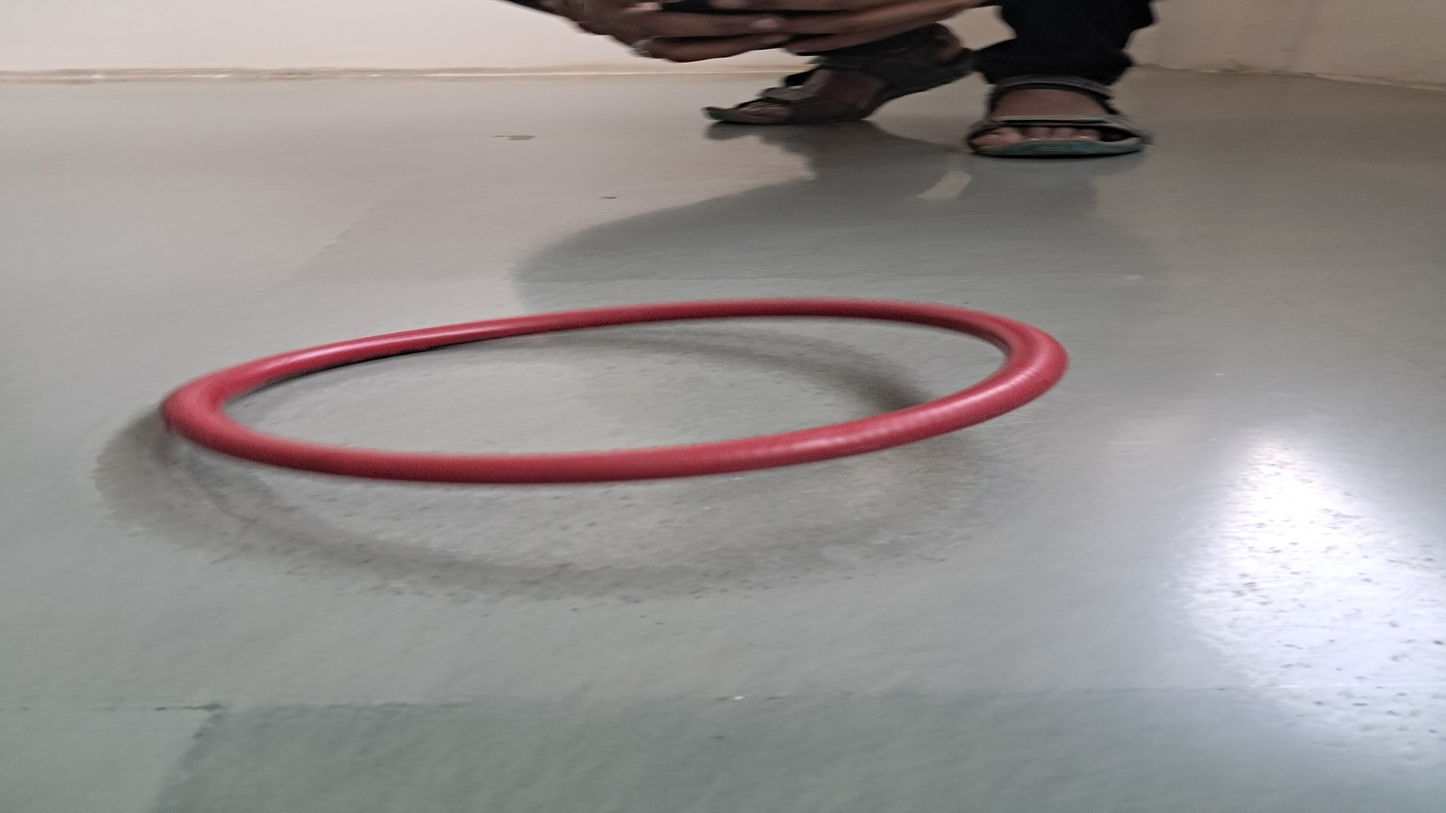Red ring: (168, 302, 1066, 477)
